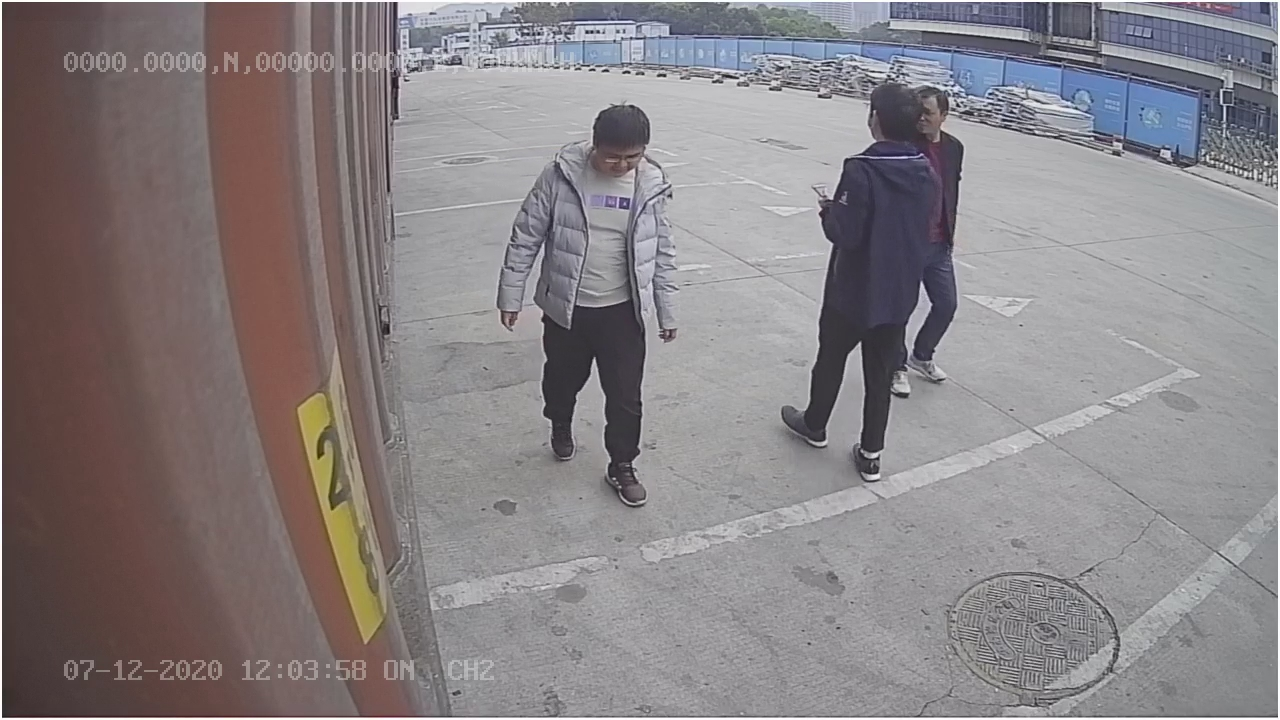person: (497, 96, 684, 506)
